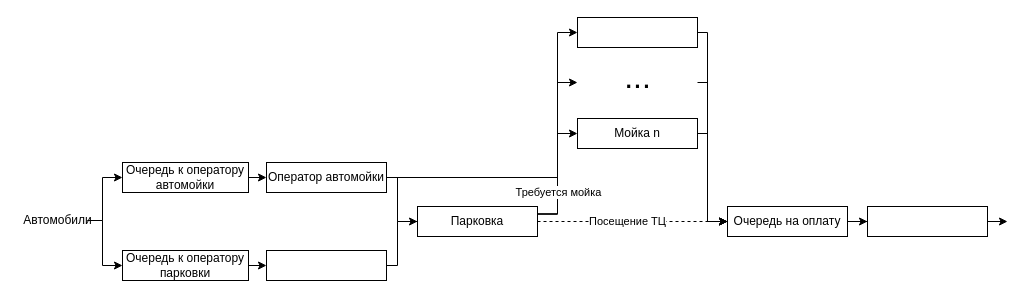
Some shapes in this 1033 by 298 pixel diagram are drawn without their labels. The centre of each missing label's shape, as x and y in pixels:
"Мойка 1" belongs at point 637,32.
"Оператор оплаты" belongs at point 927,221.
"Оператор парковки" belongs at point 326,265.
